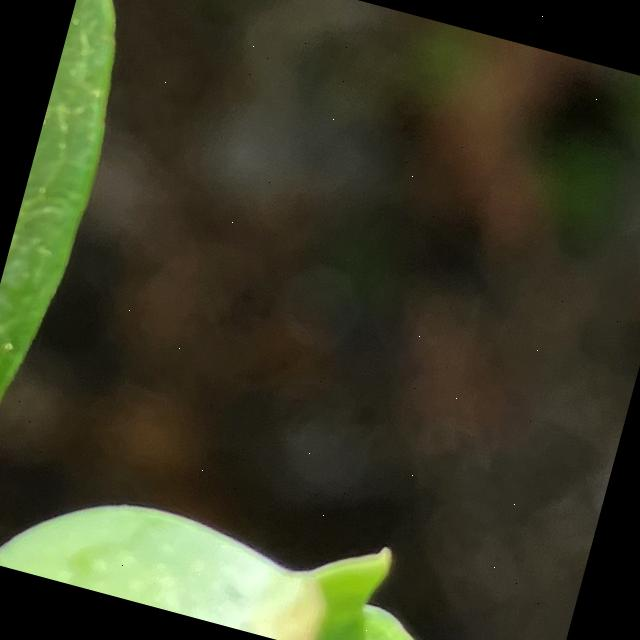Blueberries: (0, 405, 542, 640)
